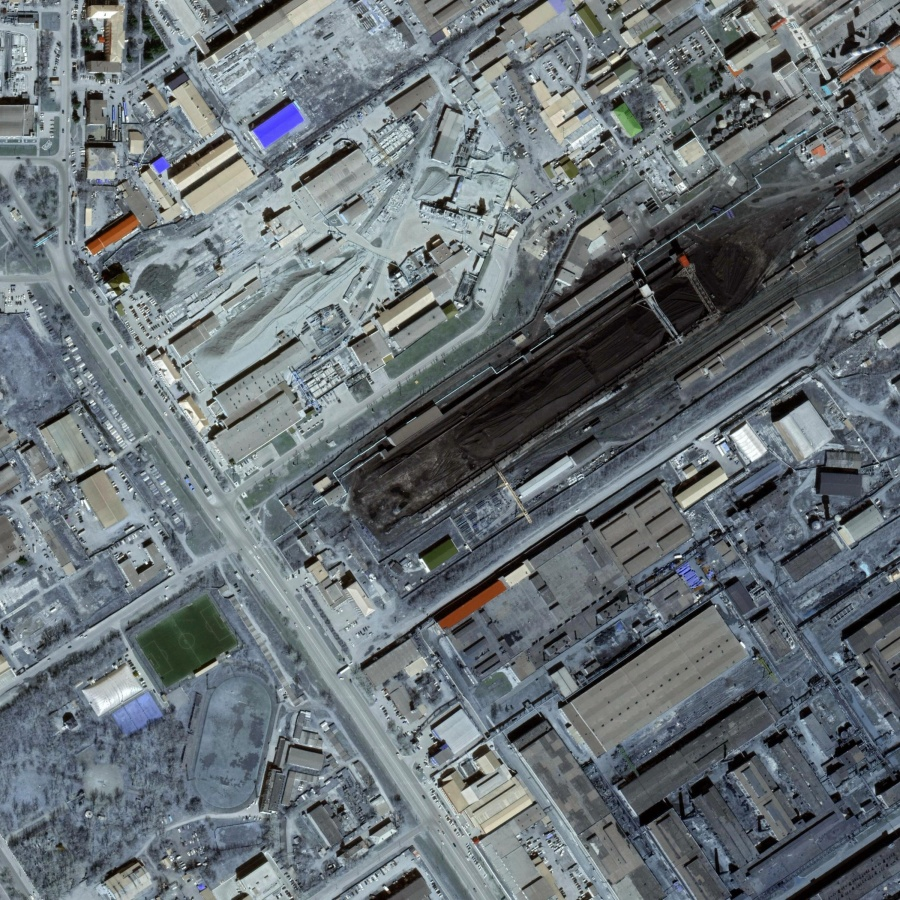PowerPlant: (326, 178, 798, 548)
